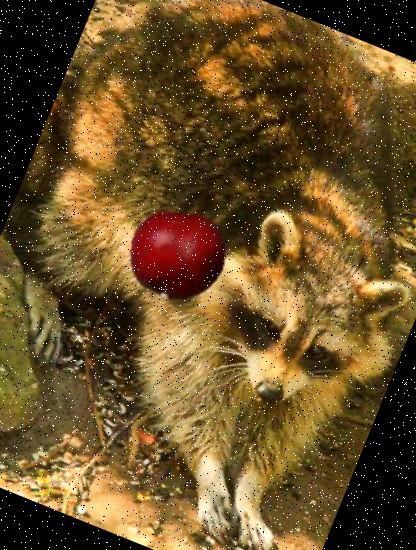Nectarine: (114, 192, 242, 320)
